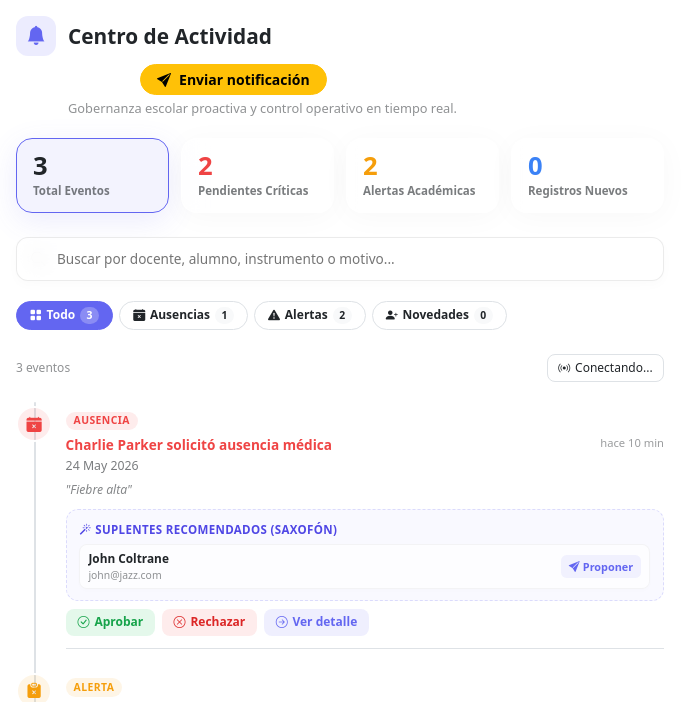
Test: adminNotificacionesView Interface & Interactions › should dynamically filter hot-memory timeline when typing in search input
The width and height of the screenshot is (681, 702).
Type "Parker" into the field with id "anv-search-bar" at (340, 259), box [16,237,664,281]
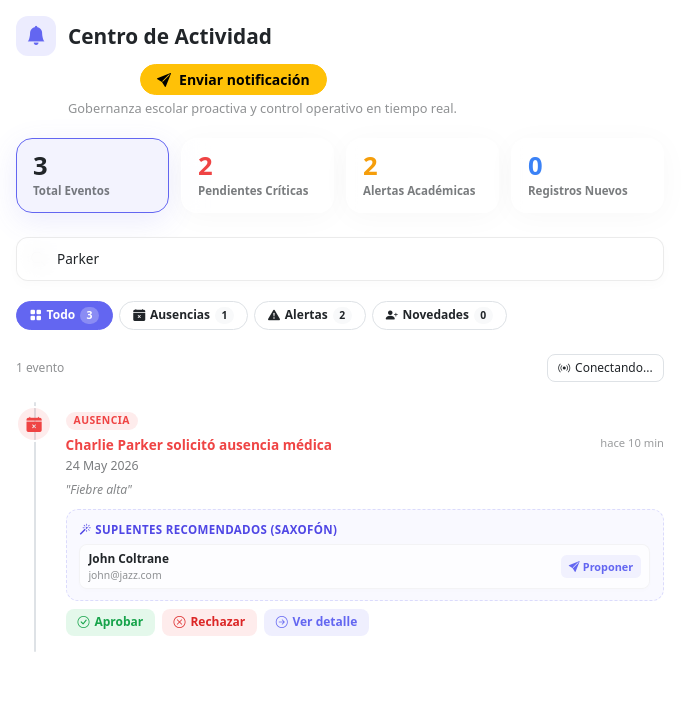
Expected: the text "Charlie Parker" is shown, [66,435,332,454]
Expected: the number of elements with class "anv-event" is 1, [16,394,664,660]
